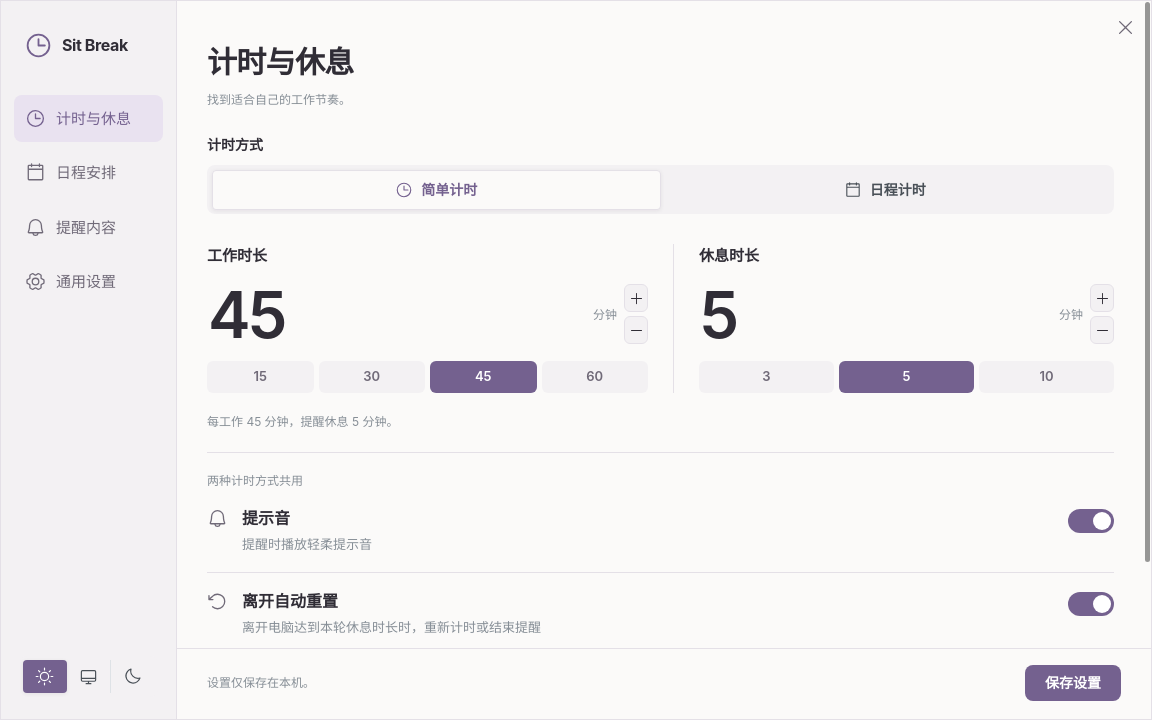
Test: 设置主要交互 › 切换计时方式及编辑日程保留草稿，导航不改变所选方式
The image size is (1152, 720).
Replace the text in the field labelled "工作时长" with "30". click: coordinates (396, 314)
box: [207, 273, 586, 355]
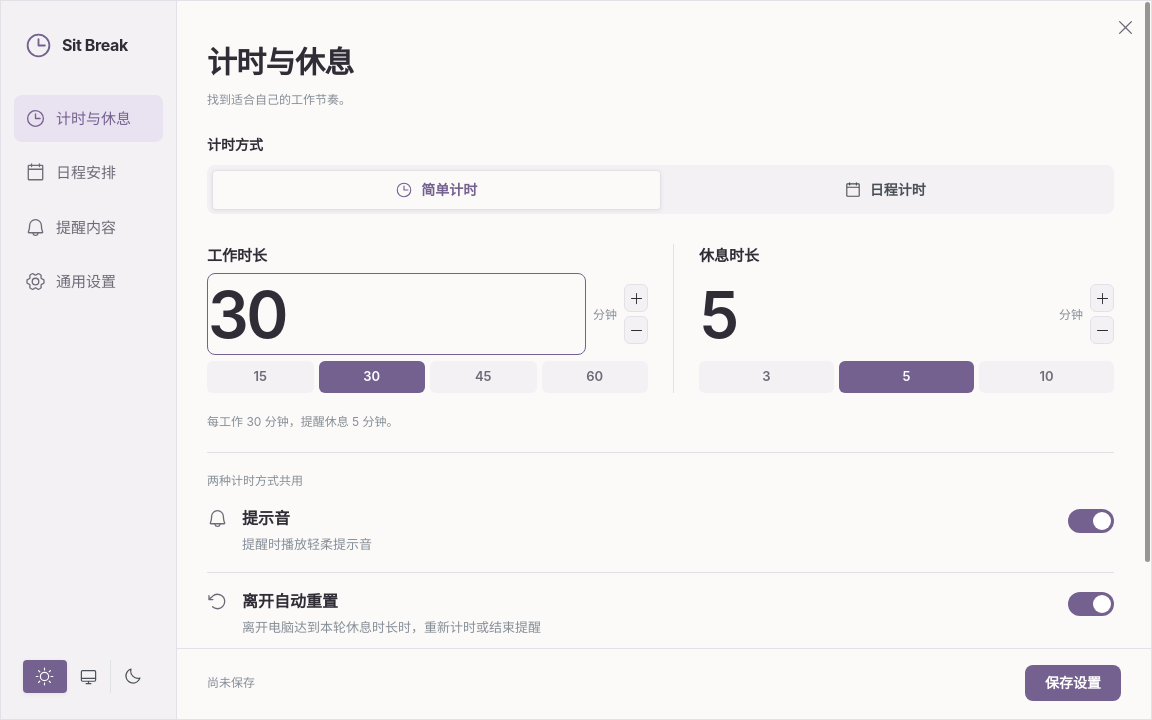
Click the text "日程计时". click: coordinates (885, 190)
box: [844, 181, 926, 199]
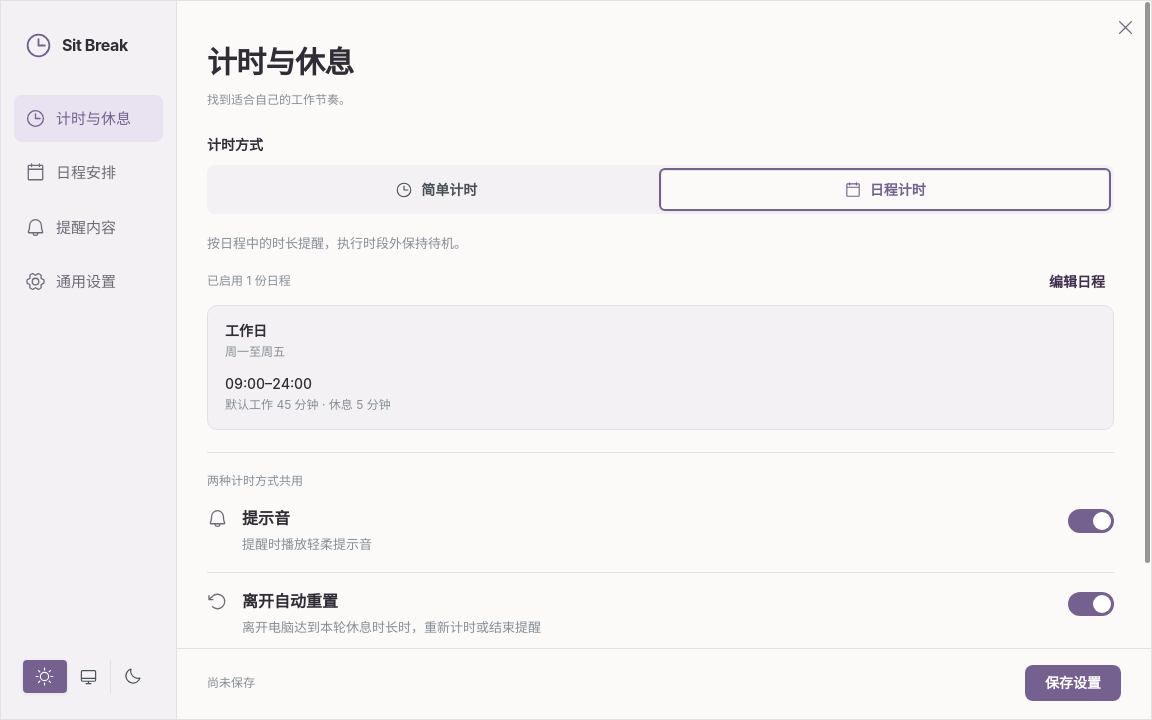
Check: the label "工作时长" is gone
Check: the element named "日程概览" shows "09:00–24:00", box [207, 232, 1114, 430]
Click the button "编辑日程". click: coordinates (1077, 282)
box: [1040, 269, 1114, 295]
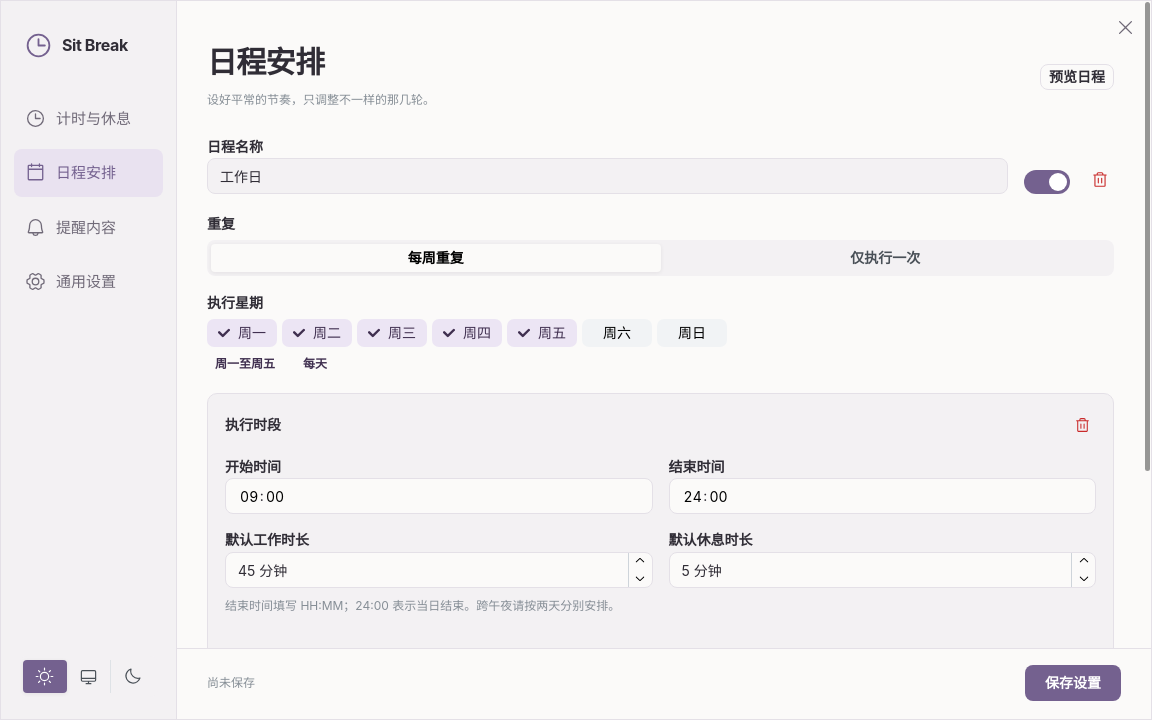
Check: the heading "日程安排" is shown, box [207, 44, 324, 80]
Click the button "计时与休息". click: coordinates (88, 119)
box: [14, 95, 163, 142]
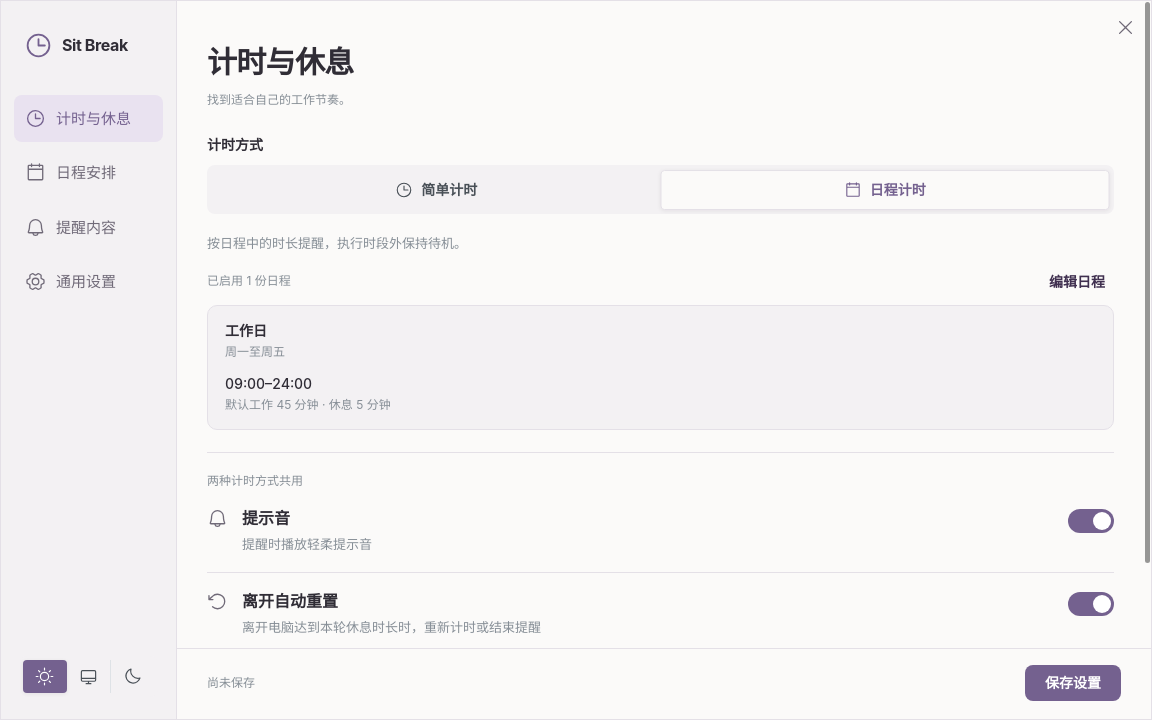
Check: the 1st radio button labelled "日程计时" is checked, box [844, 181, 926, 199]
Click the text "简单计时". click: coordinates (436, 190)
box: [395, 181, 477, 199]
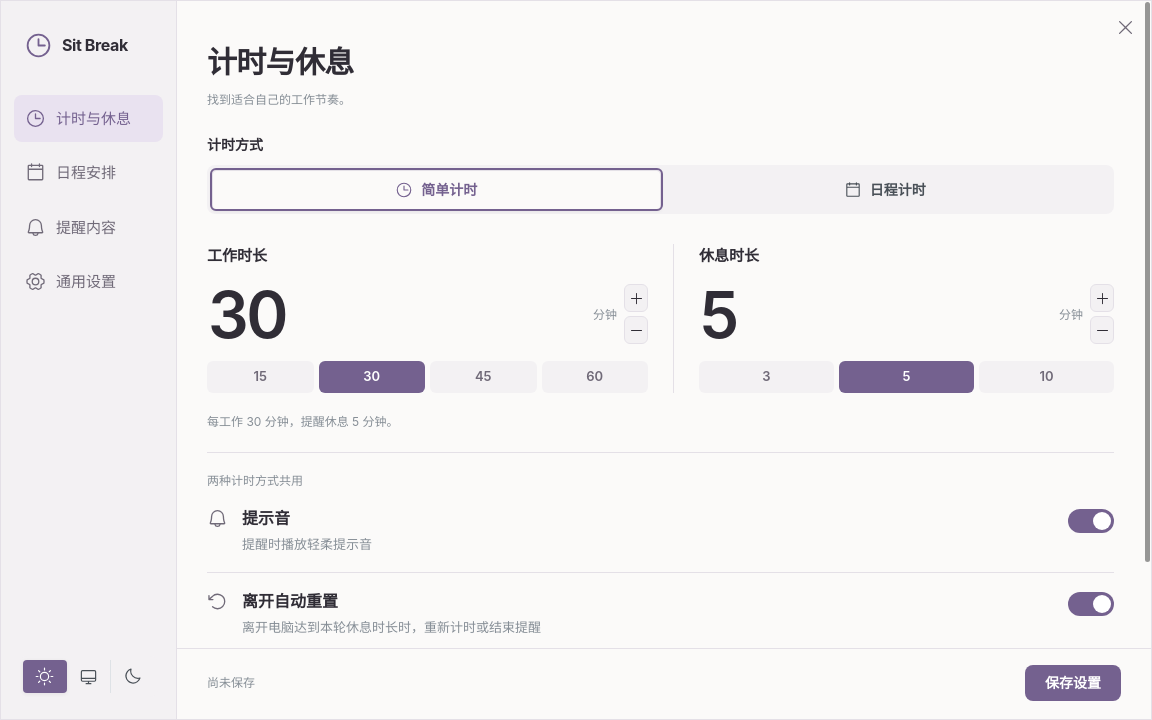
Check: the 1st radio button labelled "日程计时" is not checked, box [844, 181, 926, 199]
Click the button "保存设置". click: coordinates (1073, 683)
box: [1025, 665, 1121, 701]
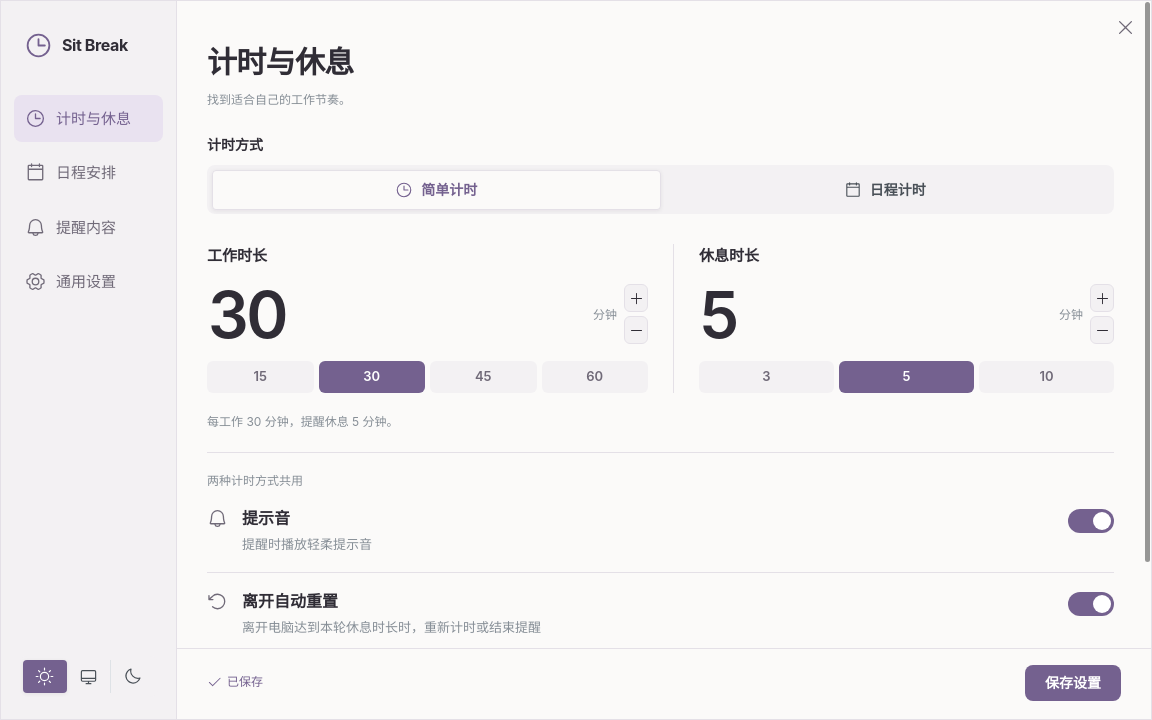
Check: the text "已保存" is shown, box [207, 672, 263, 691]
